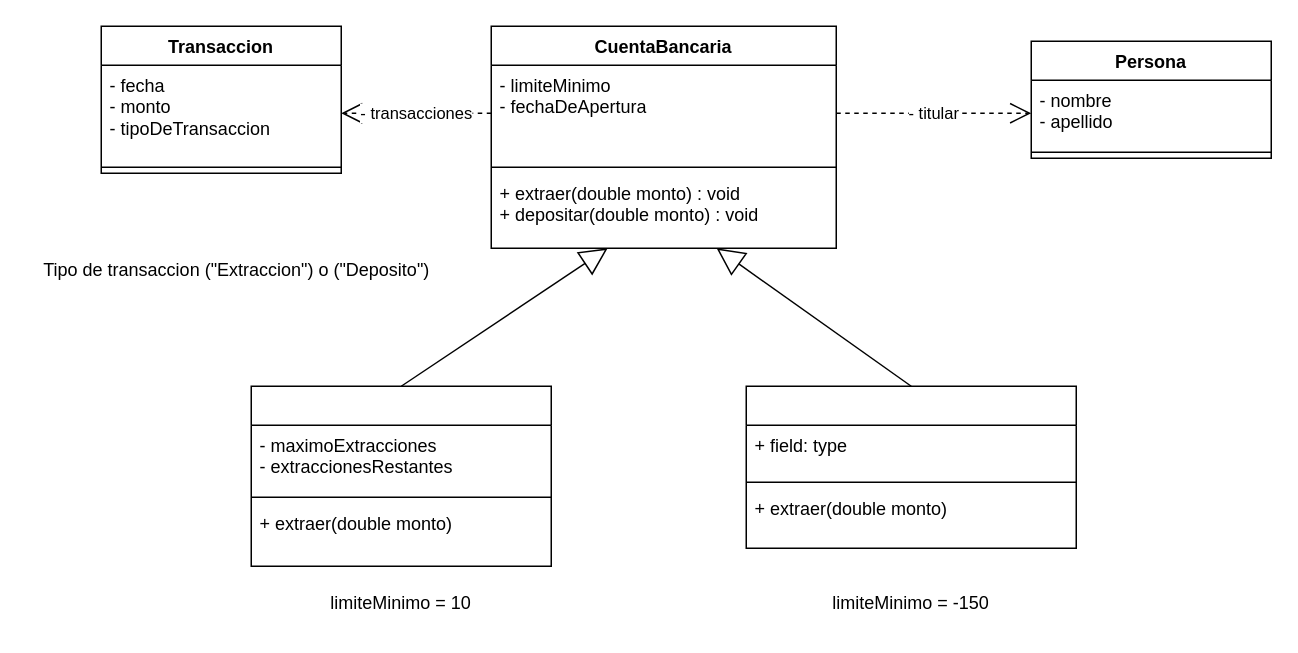
This 1298x653 diagram has some shape labels left out. Each missing label, with the box of its shape:
CajaDeAhorro: (250, 385, 551, 566)
CuentaCorriente: (745, 385, 1076, 548)
